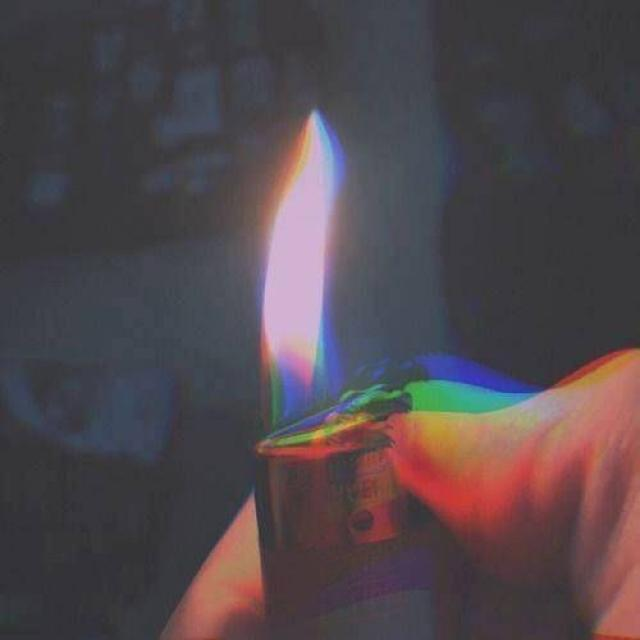Fire: (245, 97, 349, 424)
